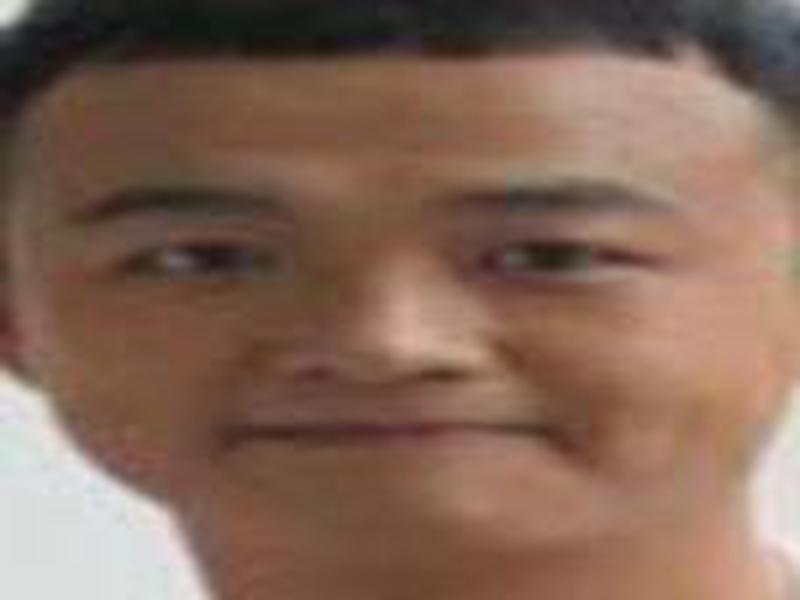without_mask: (11, 88, 800, 566)
